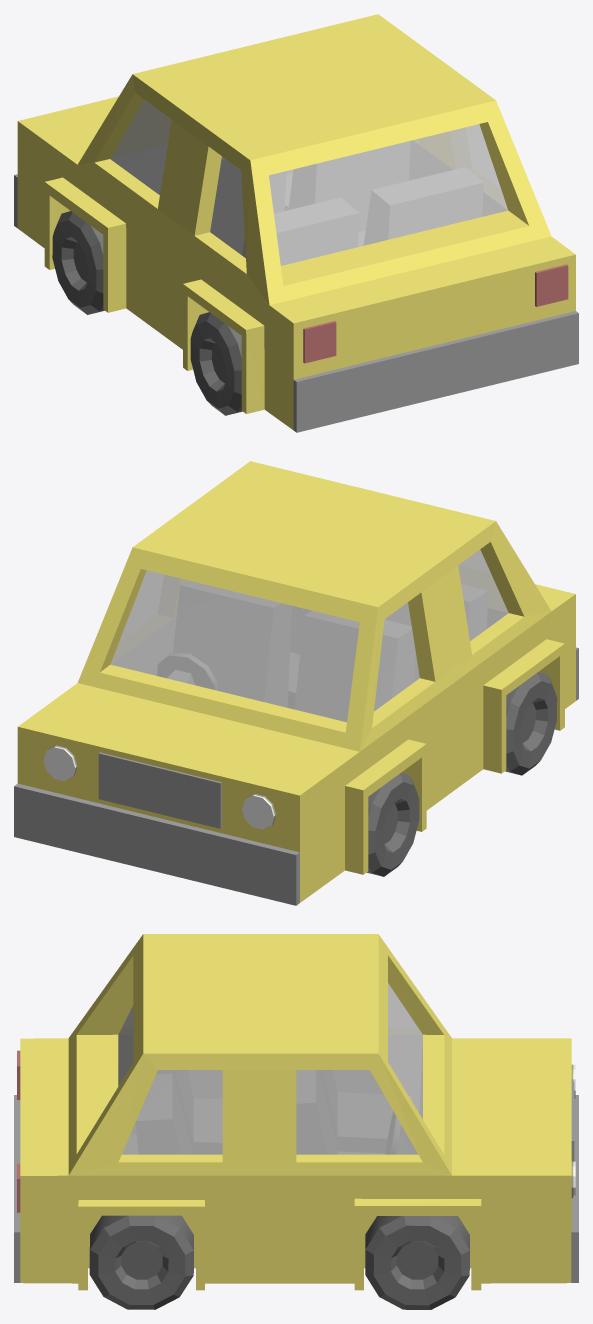
Rendered from car_low_poly.glb.
3 renders of one model, top to bottom at view 1: azimuth 30°, elevation 25°; view 2: azimuth 150°, elevation 25°; view 3: azimuth 270°, elevation 25°, orthographic.
Parts seen in each view (by area): view 1: car; view 2: car; view 3: car.
Part boxes in pixels (box(x1,y1,x2,y2)): car: box(14, 14, 578, 432); car: box(14, 461, 578, 905); car: box(14, 934, 578, 1309).
Size of the model in its own units: 20.17 by 14.62 by 30.93.
